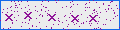x: (88, 14, 98, 24), (5, 13, 14, 23), (70, 14, 79, 23), (24, 11, 32, 21), (48, 13, 56, 23)
